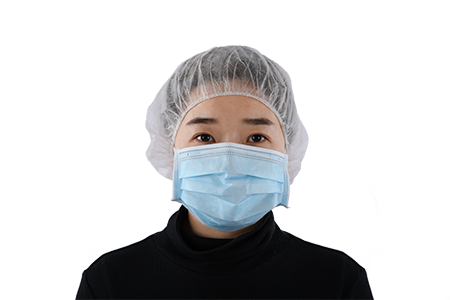with_mask_and_cap: (157, 46, 292, 233)
